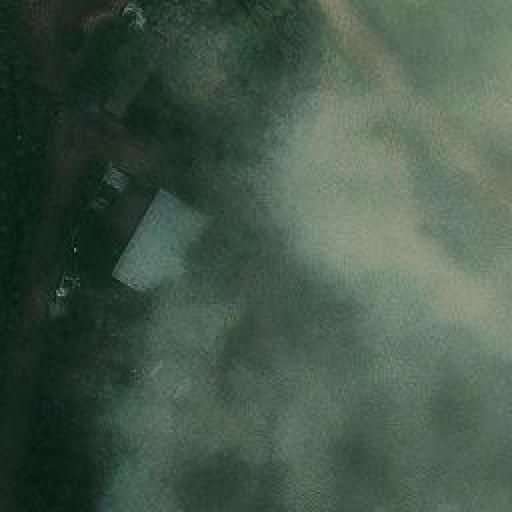manzanas: (109, 188, 209, 301)
